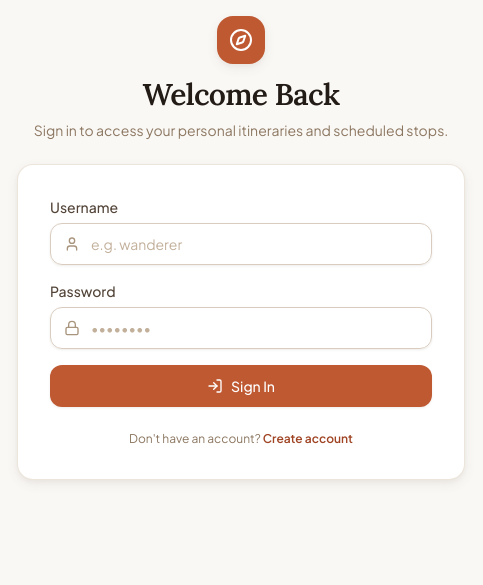
Test: Authentication & Profile Flows › displays friendly error message on 401 invalid credentials
Step 1. Type "invalid_user" into the field labelled "Username" → coordinates (241, 244), box [50,223,432,265]
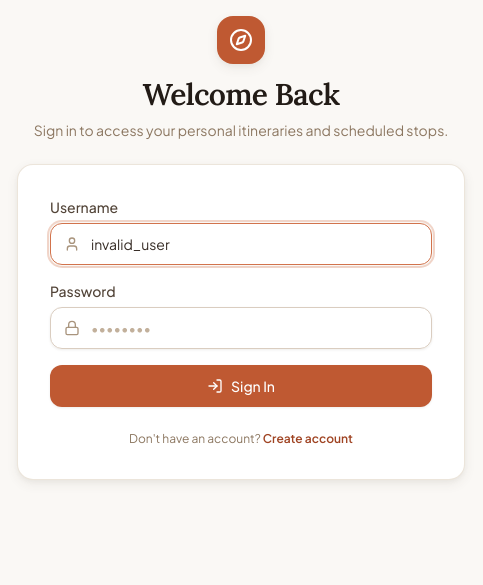
Step 2. Type "WrongPassword!" into the password field labelled "Password" → coordinates (241, 328), box [50,307,432,349]
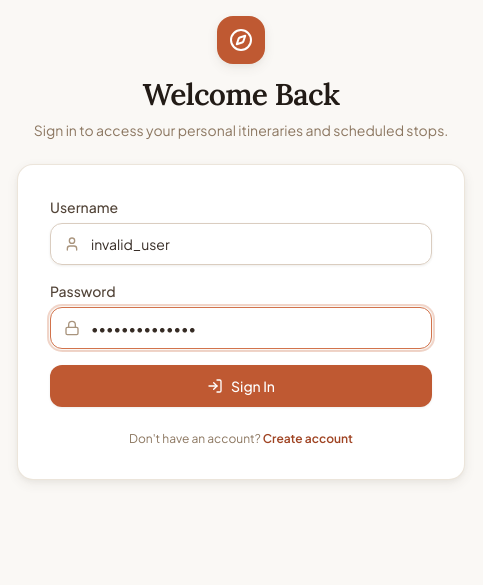
Step 3. Click the button "Sign In" → coordinates (241, 386), box [50,365,432,407]
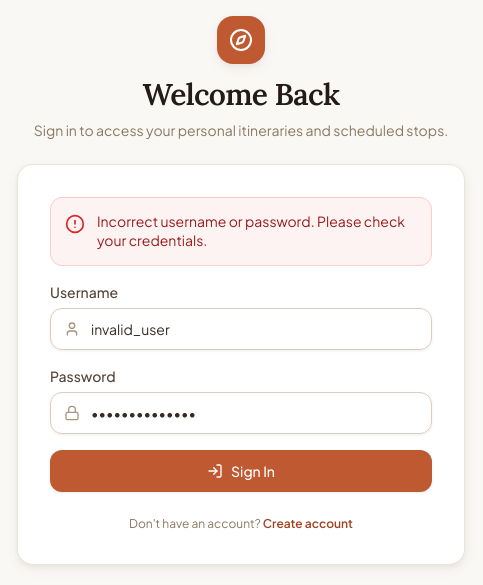
Expected: the message "Incorrect username or password. Please check your credentials." is shown, [50,197,432,266]
Expected: the text "Incorrect username or password" is shown, [97,212,405,249]
